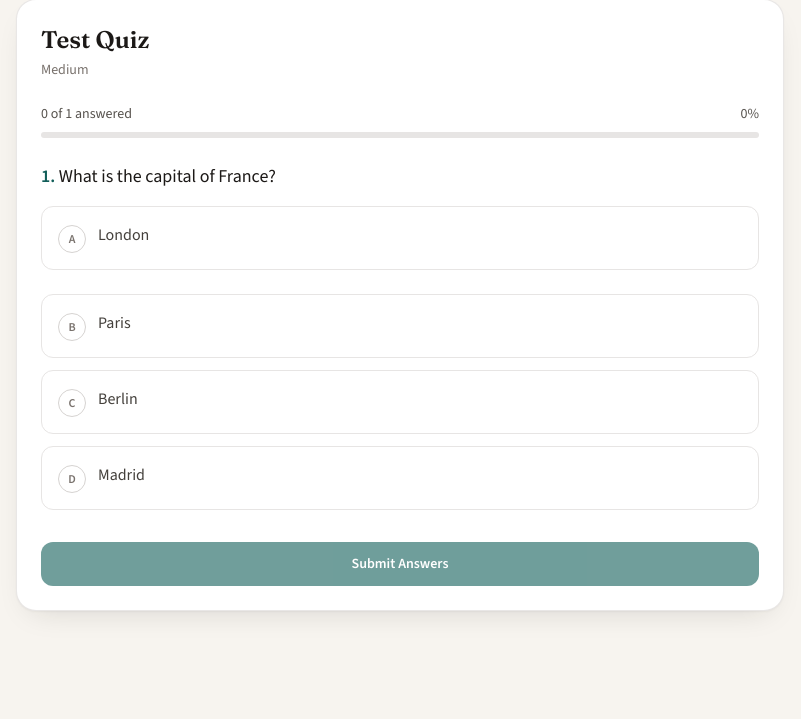
QuizPage › shows quiz results after submission
Step 1. Click the text "Paris" → (114, 322), box [98,312,131,333]
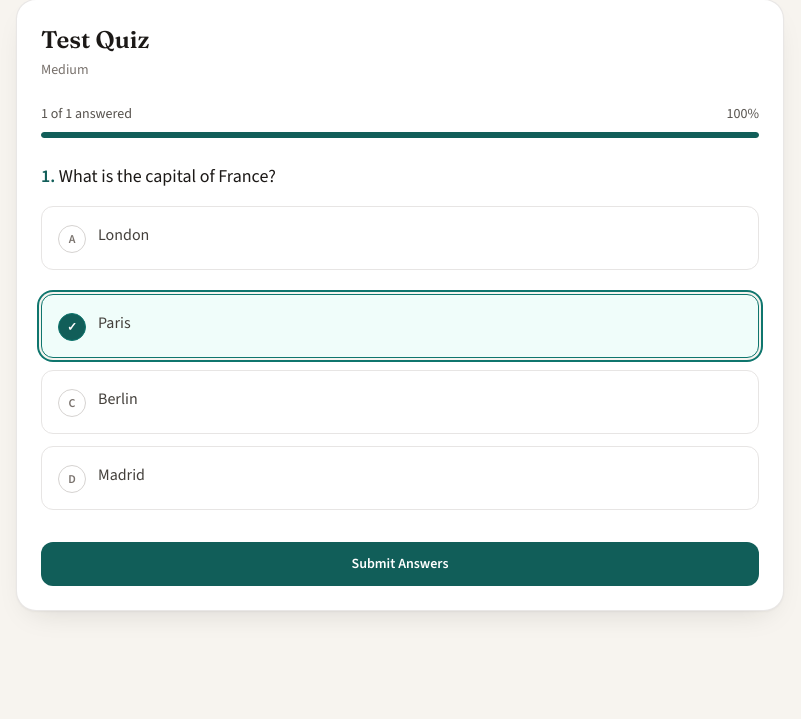
Step 2. Click the button "Submit Answers" → (400, 564), box [41,542,759,586]
(page scrolled)
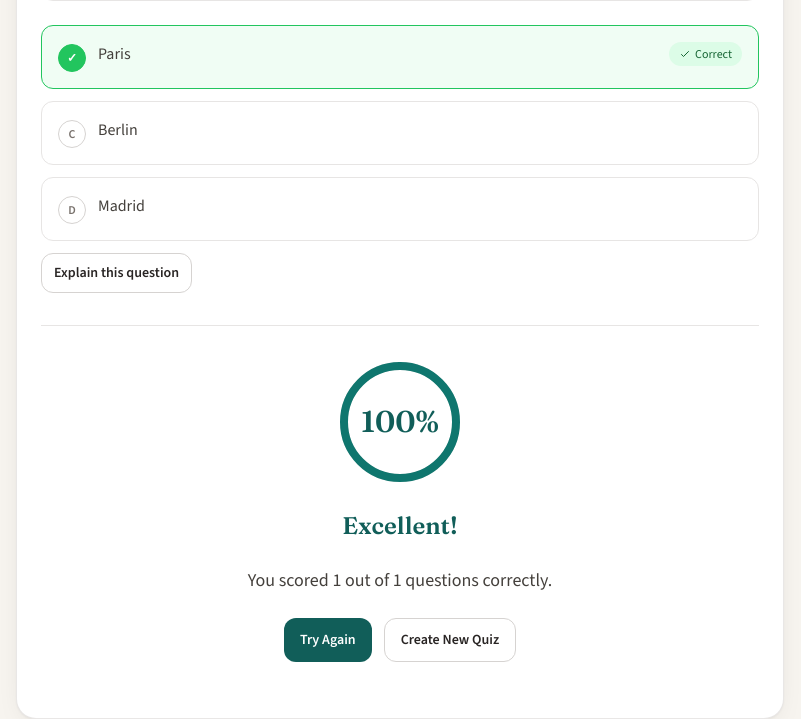
Check: the text "100%" is shown, box [361,403,439,440]
Check: the text "You scored 1 out of 1 questions correctly." is shown, box [248,566,552,594]
